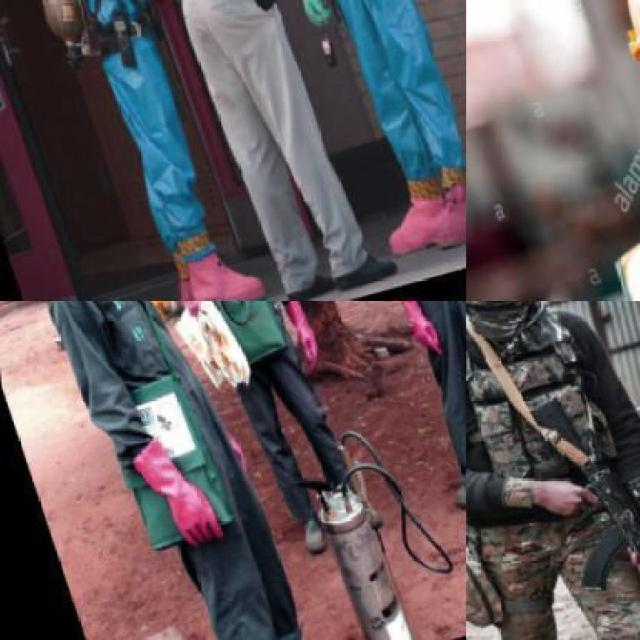vest: (466, 300, 637, 562), (21, 0, 172, 74), (576, 120, 638, 298)
